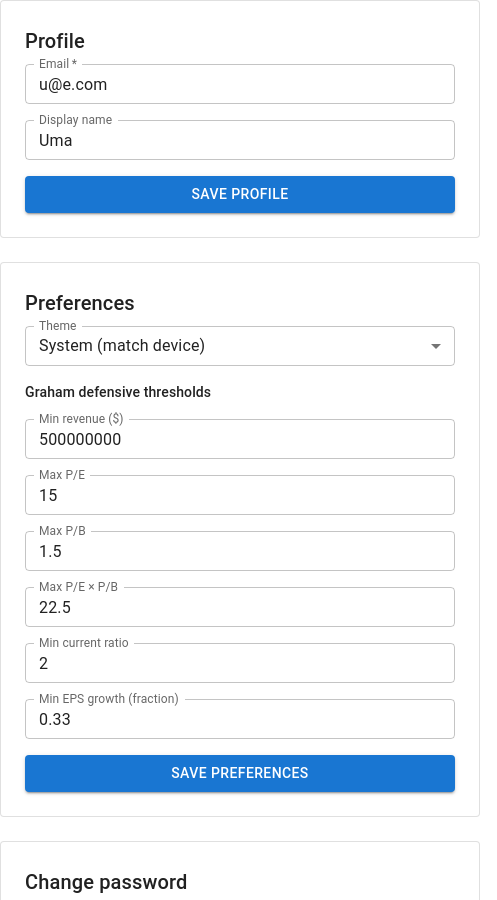
Test: loads the profile and saves email + display name
This screenshot has width=497, height=900.
Expected: the field labelled "Display name" holds "Uma", x1=25 y1=120 x2=455 y2=160
Replace the text in the field named "profile email" with "new@e.com". click: (240, 84)
box: x1=25 y1=64 x2=455 y2=104
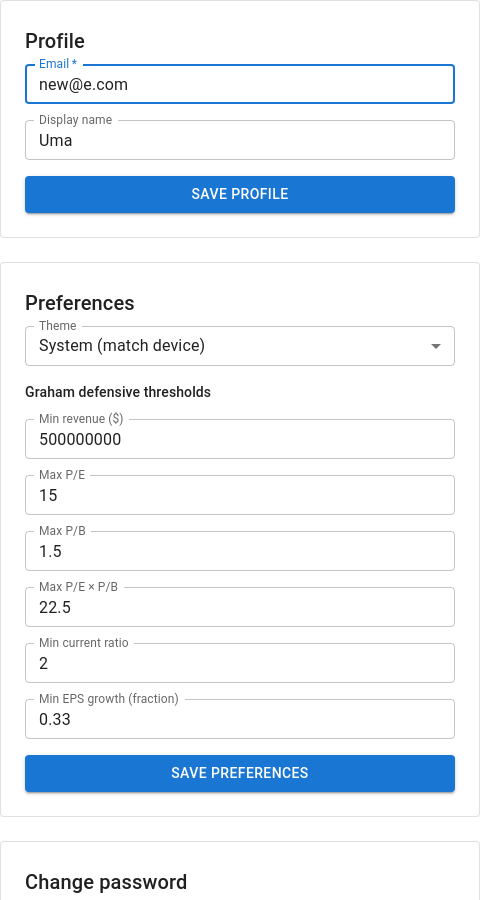
Replace the text in the field labelled "Display name" with "Umar". click: (240, 140)
box: x1=25 y1=120 x2=455 y2=160
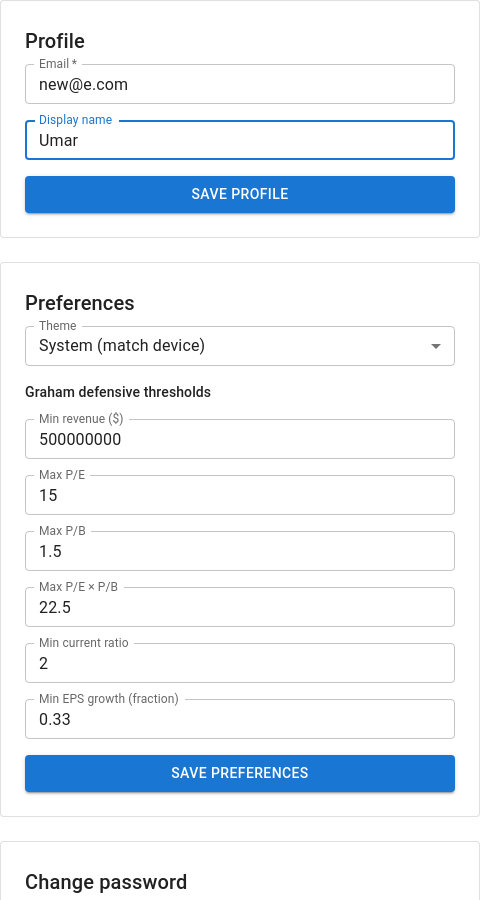
Click the button "Save profile". click: click(240, 194)
box: x1=25 y1=176 x2=455 y2=212
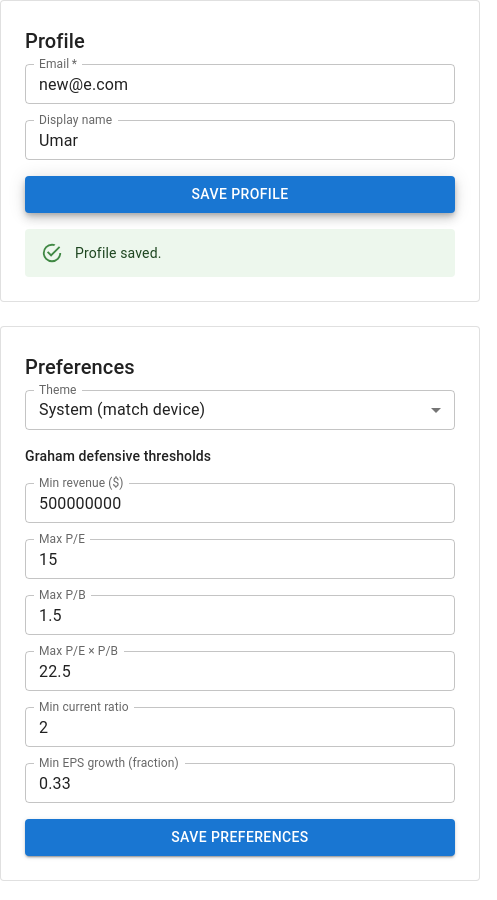
Expected: the text "Profile saved." is shown, x1=75 y1=244 x2=162 y2=260
